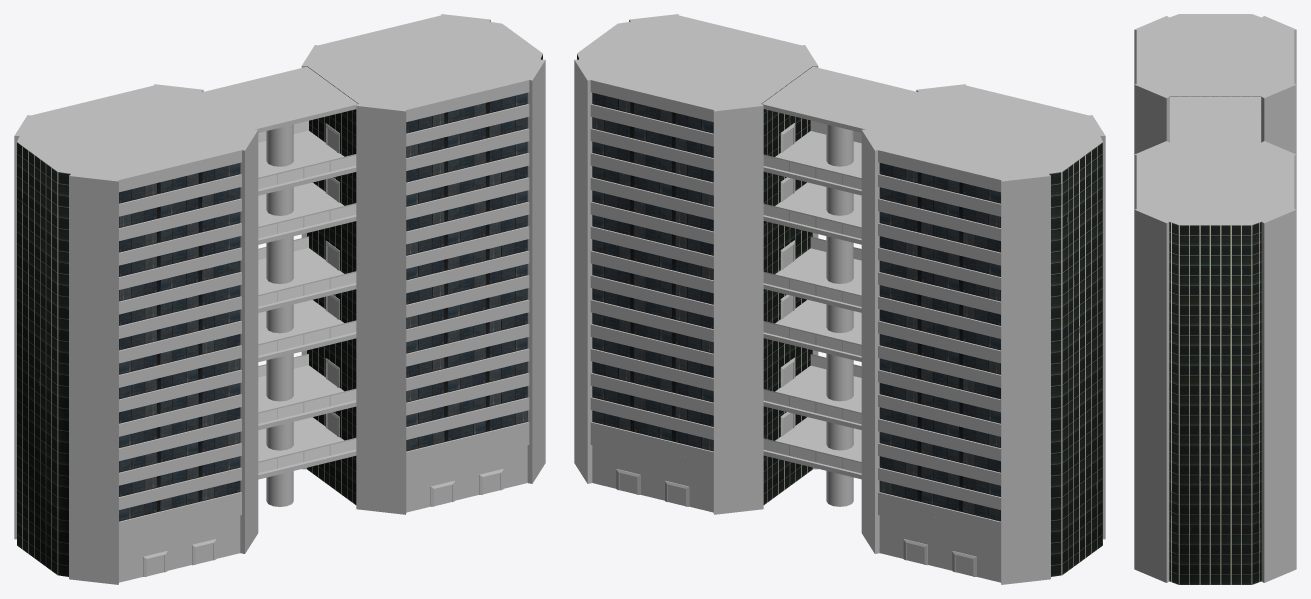
3 views of the same model, side by side, from view 1: azimuth 30°, elevation 25°; view 2: azimuth 150°, elevation 25°; view 3: azimuth 270°, elevation 25° (orthographic). The views are drawn at different scales.
Parts seen in each view (by area): view 1: BC-076; view 2: BC-076; view 3: BC-076.
Boxes of the visible parts, x1,y1,x2,y2 form: BC-076: (14, 14, 545, 584); BC-076: (574, 14, 1105, 584); BC-076: (1134, 14, 1296, 584).
Size of what is drawn, in the model's own units: 73.6 by 58.46 by 23.91.
